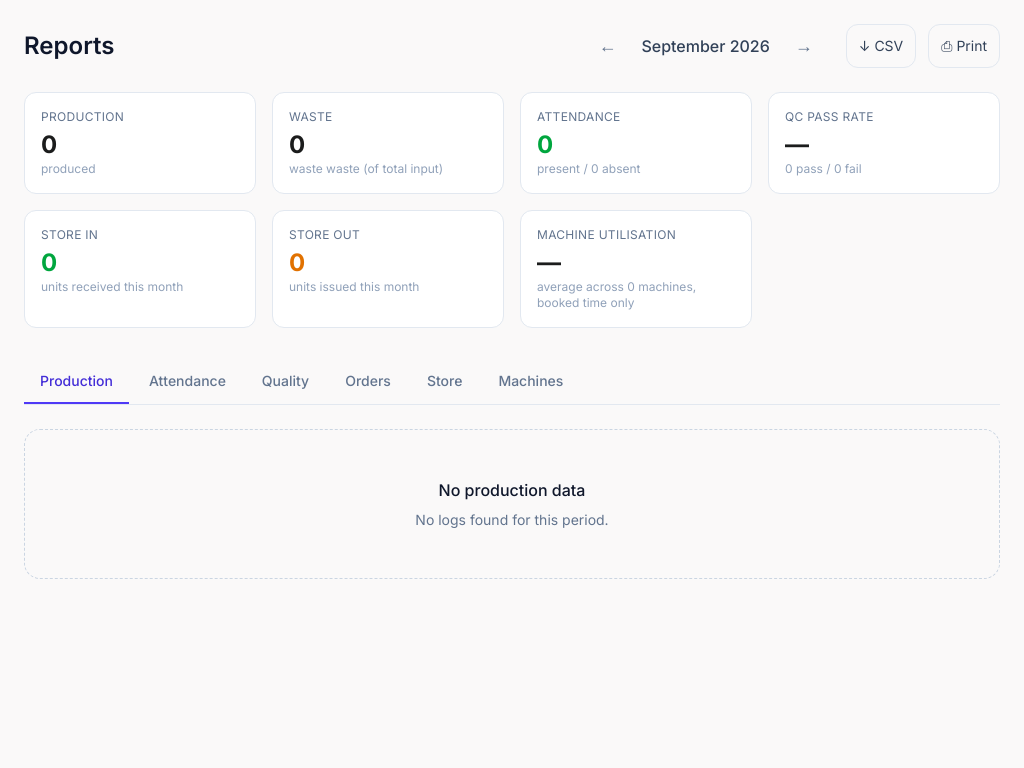
the Machines tab › says plainly that the figure is booked time, not actual running time or downtime history
The width and height of the screenshot is (1024, 768).
Click the button "Machines" at (531, 382), box [482,360,579,404]
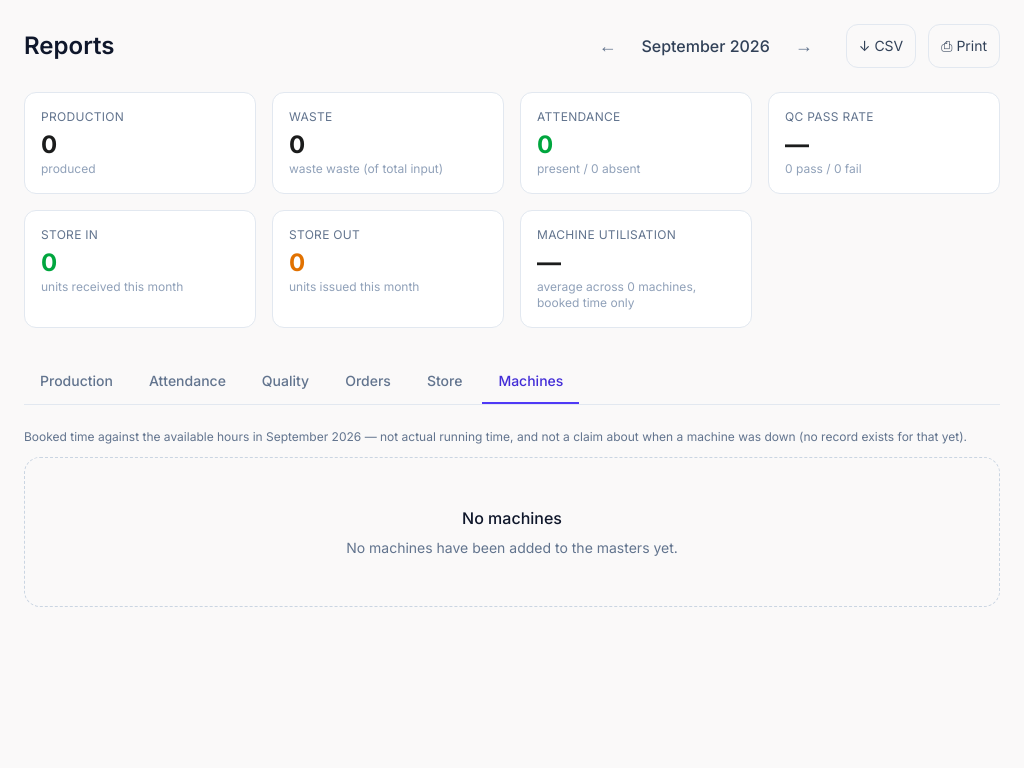
Check: the text "not actual running time, and not a claim about when a machine was down" is shown, box [361,429,967,444]
